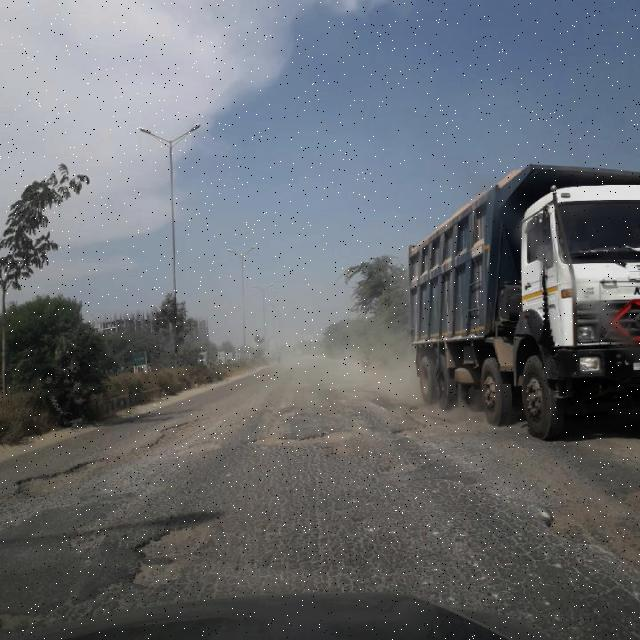D20: (1, 433, 621, 615)
D40: (5, 412, 224, 498), (122, 510, 229, 588), (243, 419, 384, 464), (533, 469, 617, 542), (394, 404, 476, 452), (59, 508, 113, 559)
